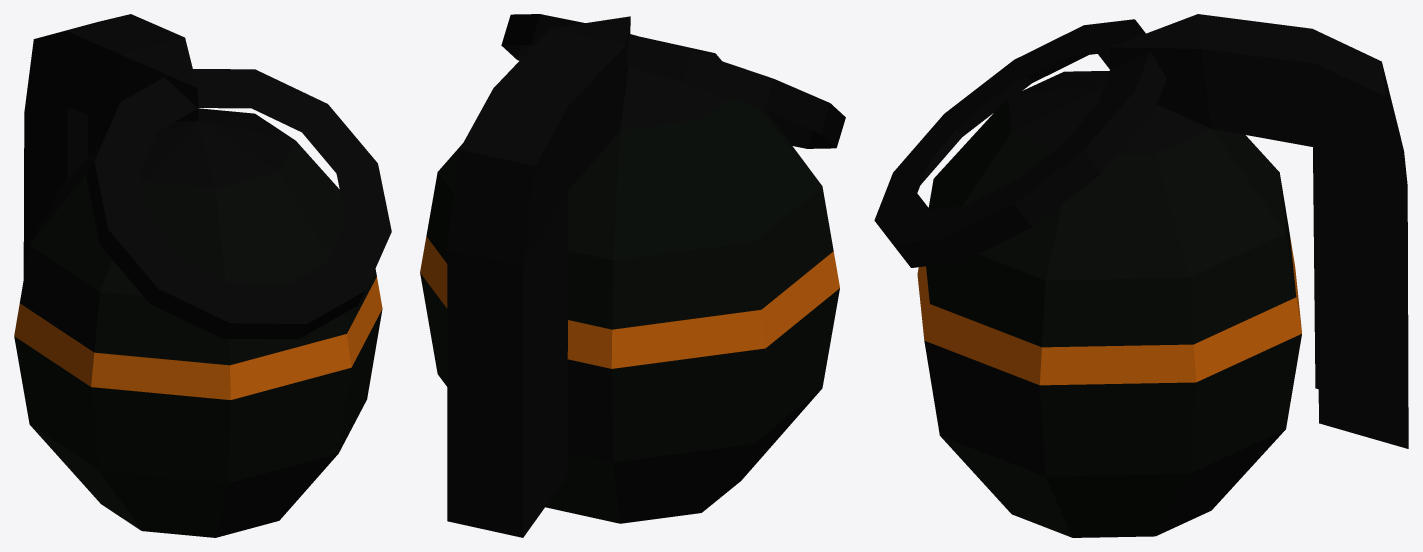
Rendered from grenade.obj.
3 views of the same model, side by side, from view 1: azimuth 30°, elevation 25°; view 2: azimuth 150°, elevation 25°; view 3: azimuth 270°, elevation 25° (orthographic). The views are drawn at different scales.
Visible parts, largest first — view 1: grenade; view 2: grenade; view 3: grenade.
Boxes of the visible parts, bbox=[...] form: grenade: bbox=[14, 14, 391, 537]; grenade: bbox=[420, 14, 845, 537]; grenade: bbox=[874, 14, 1408, 537].
Bounding box in the file's own units: 0.0886 × 0.1248 × 0.1231.
